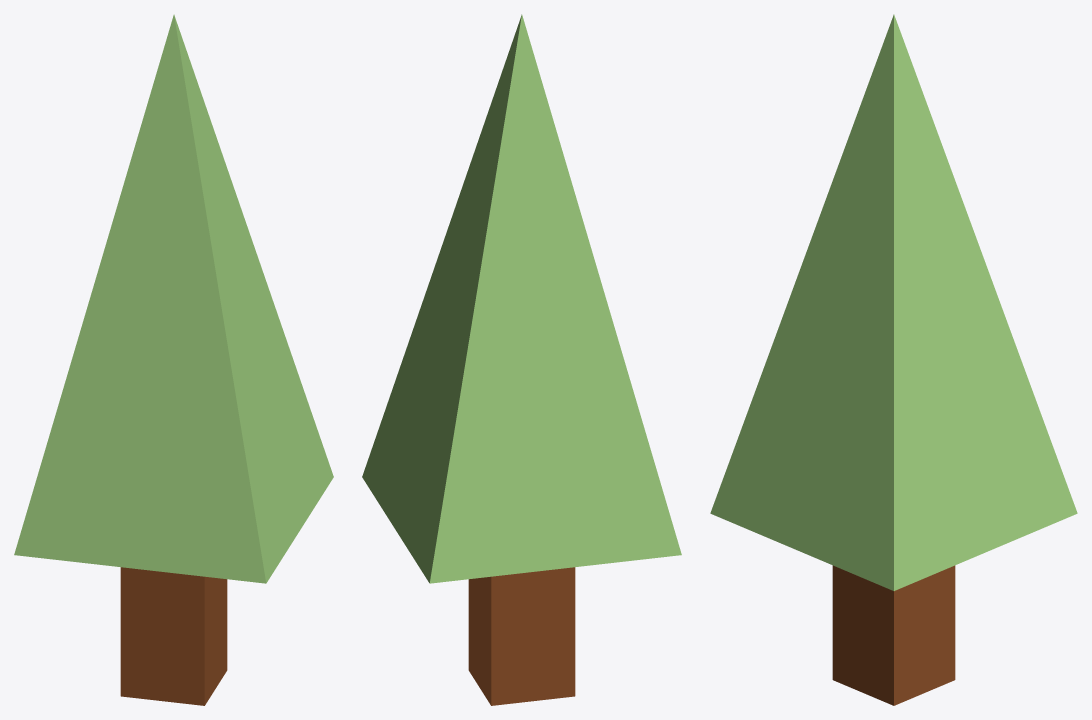
Rendered from Tree.fbx.
3 views of the same model, side by side, from view 1: azimuth 30°, elevation 25°; view 2: azimuth 150°, elevation 25°; view 3: azimuth 270°, elevation 25° (orthographic).
Visible parts, largest first — view 1: Tree; view 2: Tree; view 3: Tree.
Boxes of the visible parts, x1,y1,x2,y2 form: Tree: (14, 14, 333, 705); Tree: (362, 14, 681, 705); Tree: (710, 14, 1077, 705).
Bounding box in the file's own units: 300 × 600 × 300.
